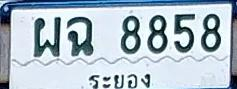5: (174, 13, 196, 53)
8: (120, 14, 141, 54), (200, 13, 221, 52), (147, 14, 167, 53)
A09: (66, 16, 93, 56)
A28: (33, 16, 61, 57)
RYG: (85, 68, 156, 89)
